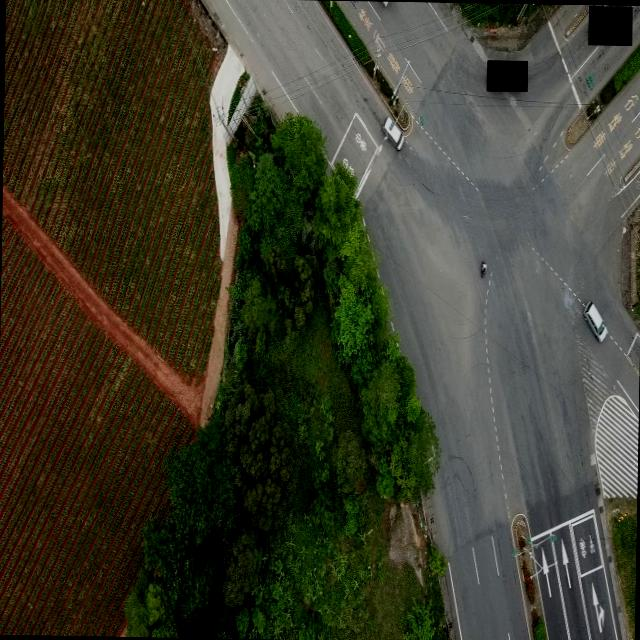bike: (479, 259, 486, 276)
car: (582, 301, 608, 342), (382, 114, 403, 149)
